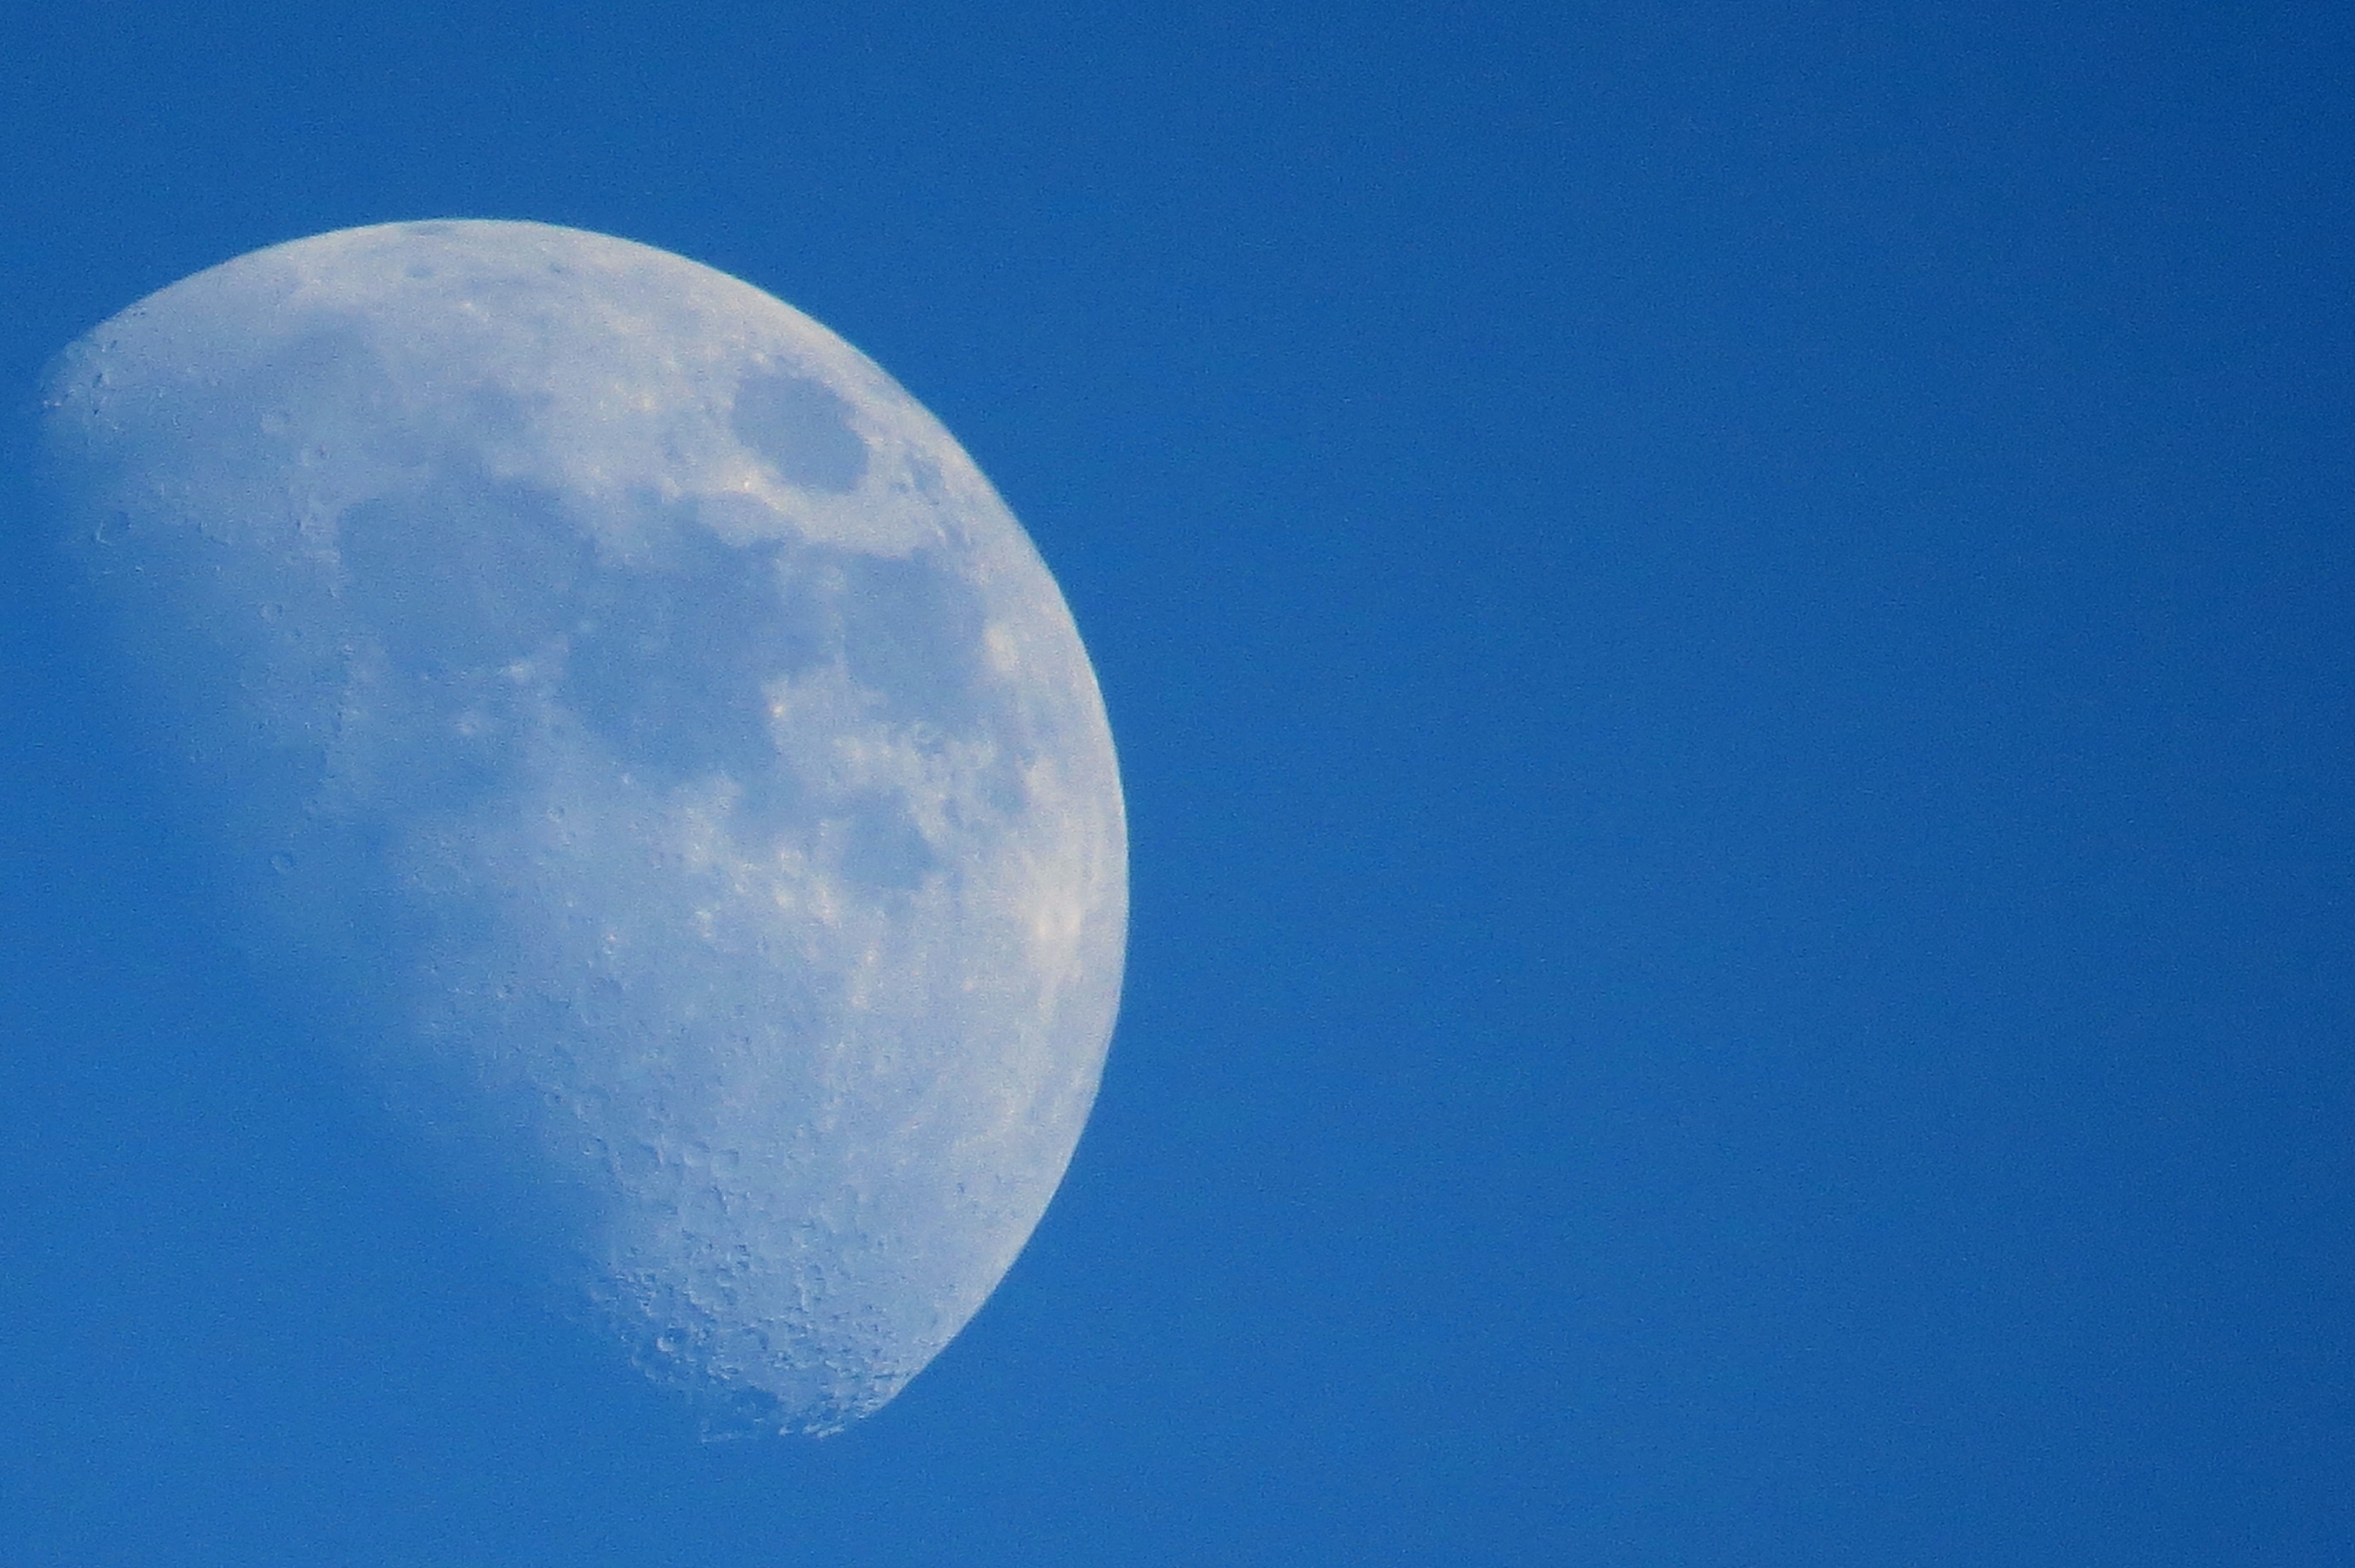crater: (985, 815, 1115, 1045), (82, 490, 166, 569), (248, 821, 325, 884), (233, 383, 296, 448), (612, 1127, 665, 1199), (72, 362, 140, 416), (730, 457, 791, 513), (478, 961, 528, 1017), (532, 780, 579, 835), (178, 733, 233, 775), (287, 425, 334, 471), (759, 679, 801, 724), (247, 593, 303, 621)
